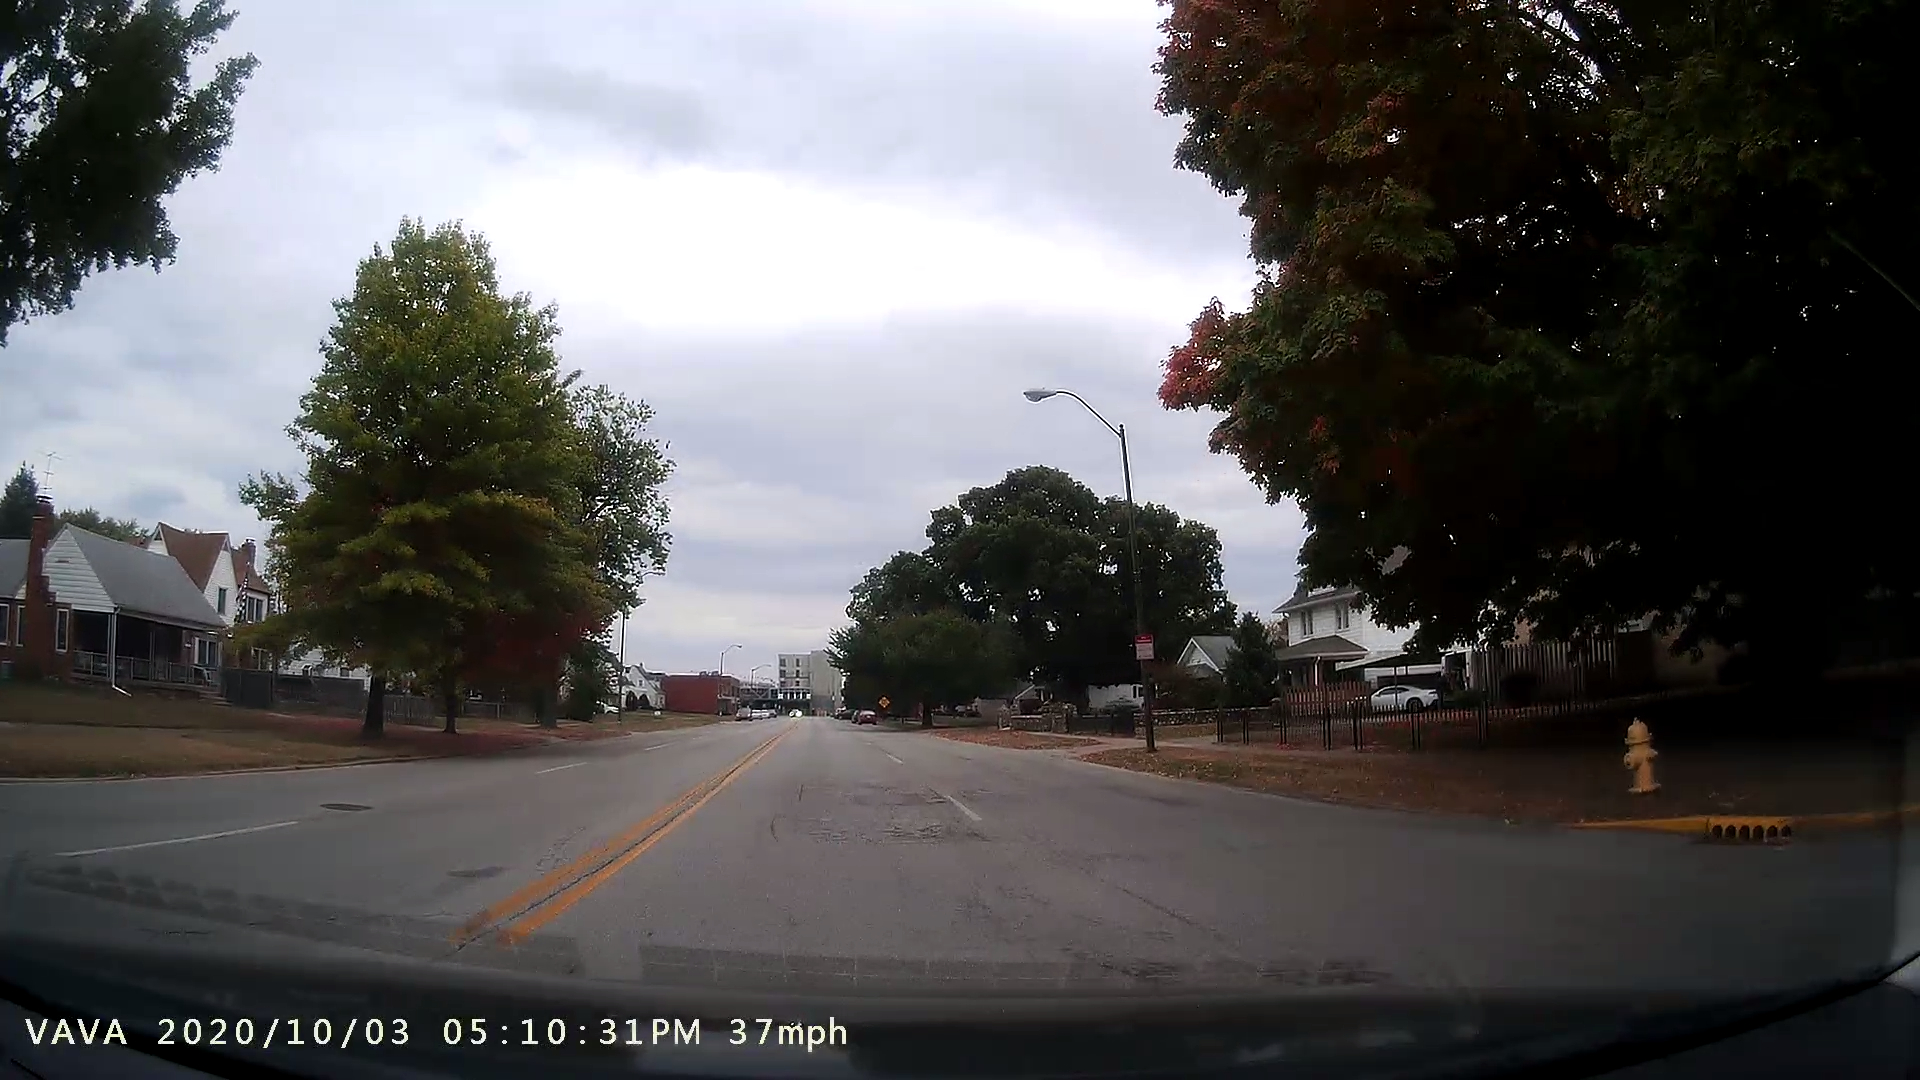fire_hydrant: (1604, 699, 1676, 810)
